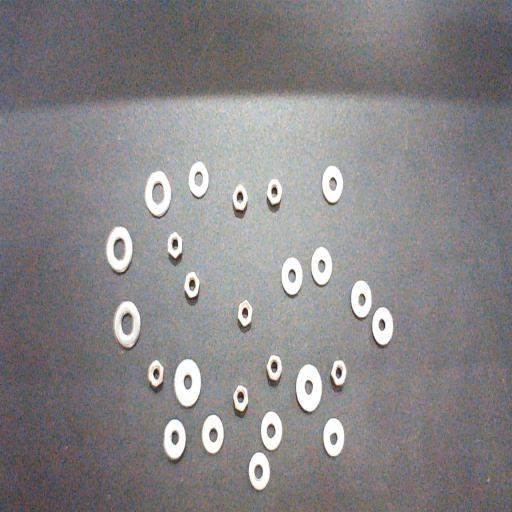nut: (148, 360, 164, 388), (184, 272, 200, 298), (330, 360, 346, 386), (266, 356, 282, 380), (234, 385, 248, 412), (267, 179, 282, 204), (168, 232, 182, 258), (233, 185, 247, 211), (238, 300, 252, 326)
washer: (175, 359, 201, 407), (145, 170, 171, 217), (106, 226, 132, 273), (114, 301, 140, 348), (296, 365, 322, 412), (164, 419, 186, 460), (350, 280, 372, 319), (202, 415, 224, 454), (261, 411, 282, 451), (248, 452, 270, 490), (323, 418, 344, 457), (311, 247, 332, 285), (373, 307, 393, 346), (322, 166, 343, 203), (282, 258, 302, 296), (189, 161, 209, 197)
